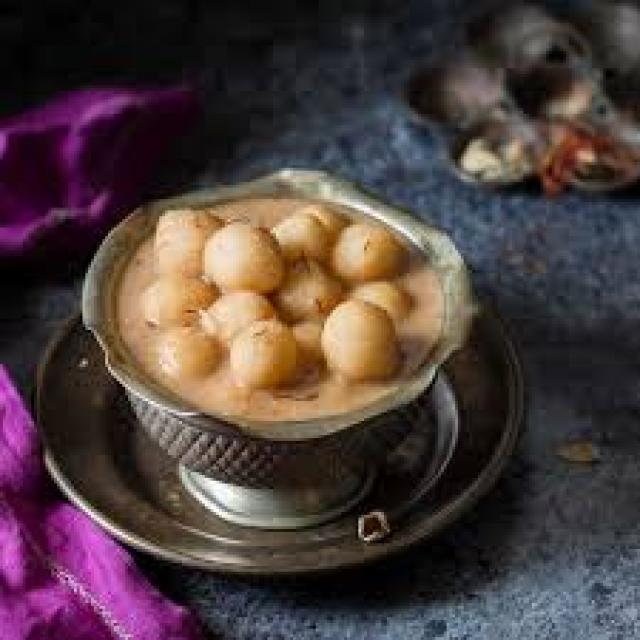paal kolukattai: (99, 156, 476, 459)
